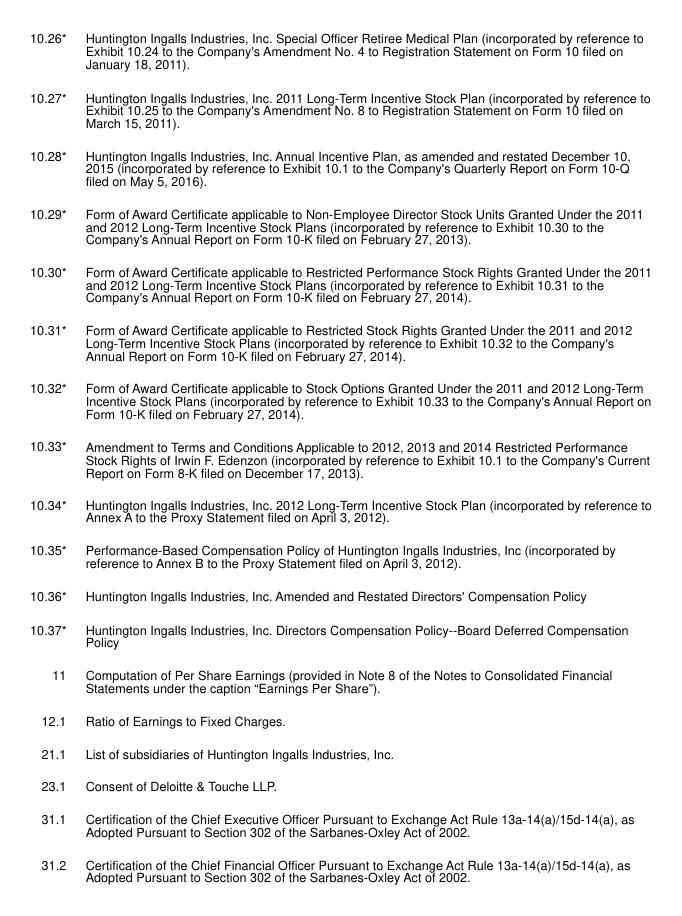table: (29, 28, 650, 885)
table column: (75, 28, 650, 885), (29, 28, 75, 885)
table row: (29, 79, 650, 138), (29, 312, 650, 371), (29, 138, 650, 196), (29, 196, 650, 254), (29, 254, 650, 312), (29, 371, 650, 429), (29, 429, 650, 487), (29, 28, 650, 79), (29, 532, 650, 578), (29, 611, 650, 657), (29, 657, 650, 703), (29, 801, 650, 847), (29, 487, 650, 532), (29, 847, 650, 885), (29, 578, 650, 611), (29, 703, 650, 736), (29, 736, 650, 769), (29, 769, 650, 801)
